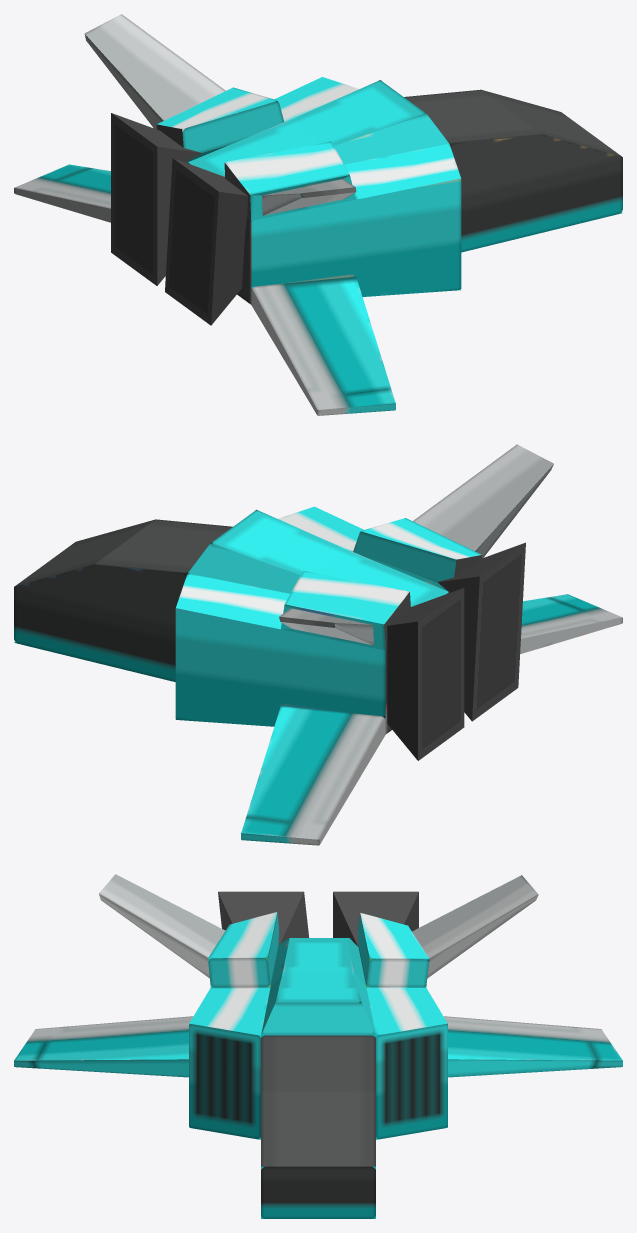
The model's file is nave2.fbx.
3 renders of one model, top to bottom at view 1: azimuth 30°, elevation 25°; view 2: azimuth 150°, elevation 25°; view 3: azimuth 270°, elevation 25°, orthographic. The views are drawn at different scales.
Parts seen in each view (by area): view 1: cuboid, cuboid_2, cuboid_1; view 2: cuboid, cuboid_1, cuboid_2; view 3: cuboid, cuboid_2, cuboid_1.
Boxes of the visible parts, x1,y1,x2,y2 form: cuboid: [14, 14, 622, 415]; cuboid_2: [165, 158, 247, 325]; cuboid_1: [111, 113, 201, 285]; cuboid: [14, 444, 622, 845]; cuboid_1: [383, 588, 464, 760]; cuboid_2: [437, 542, 525, 721]; cuboid: [14, 874, 622, 1218]; cuboid_2: [218, 891, 309, 1002]; cuboid_1: [333, 891, 418, 1002].
Size of the model in its own units: 200 by 84.38 by 265.
2 materials, 2 textured.
